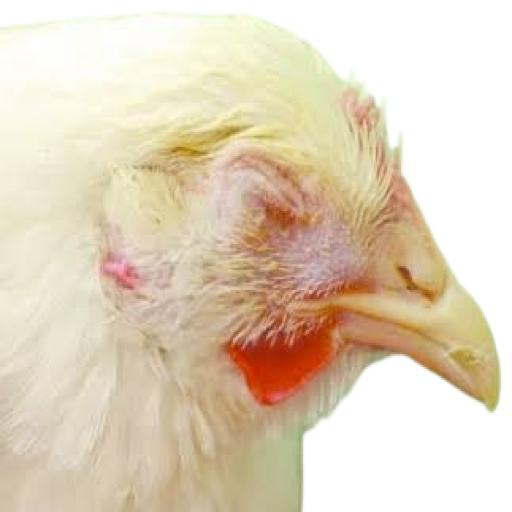disease: (205, 114, 351, 288)
